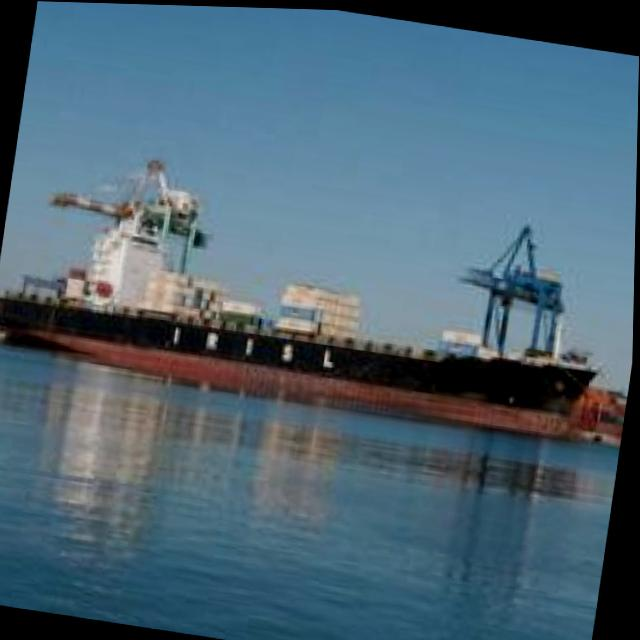ship2: (0, 150, 603, 435)
